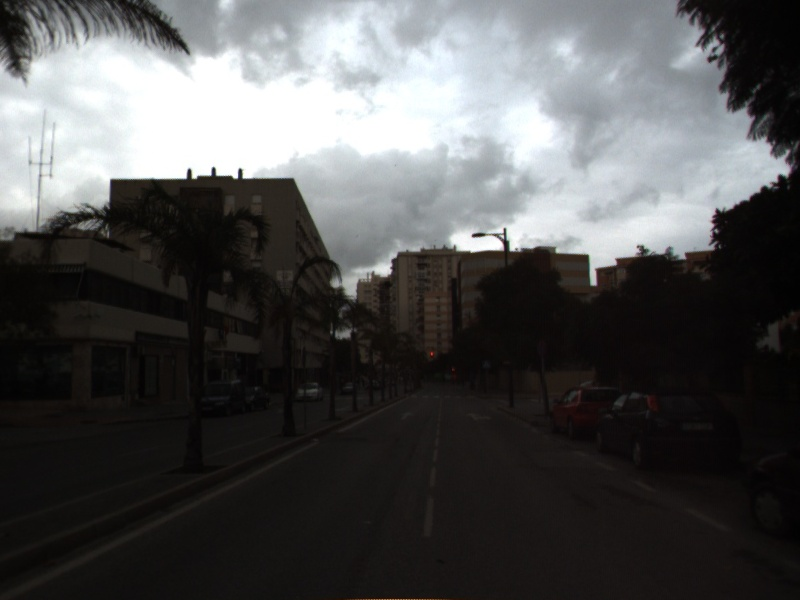STRAIGHT: (398, 410, 417, 422)
STRAIGHT_RIGHT: (464, 411, 495, 423)
